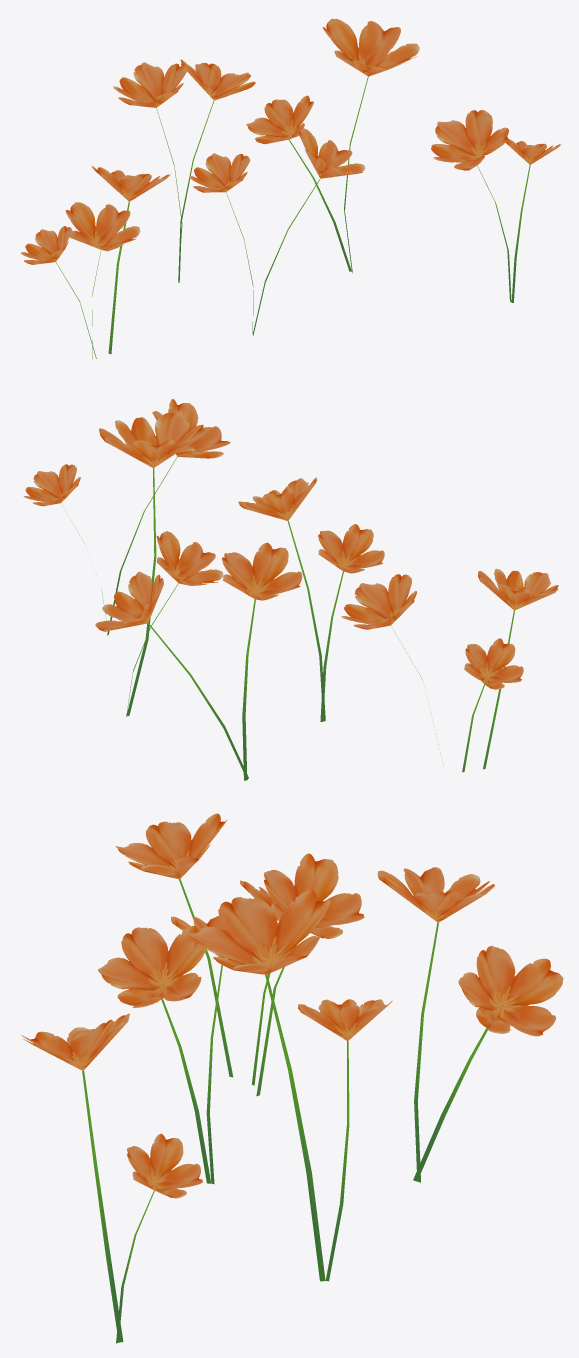
Rendered from SM_FlowerGroup_02.fbx.
3 views of the same model, one above another, from view 1: azimuth 30°, elevation 25°; view 2: azimuth 150°, elevation 25°; view 3: azimuth 270°, elevation 25° (orthographic). The views are drawn at different scales.
Visible parts, largest first — view 1: SM_FlowerGroup_02; view 2: SM_FlowerGroup_02; view 3: SM_FlowerGroup_02.
Boxes of the visible parts, x1,y1,x2,y2 form: SM_FlowerGroup_02: (20, 18, 561, 359); SM_FlowerGroup_02: (23, 399, 558, 780); SM_FlowerGroup_02: (21, 813, 563, 1343).
Bounding box in the file's own units: 204 × 101 × 135.
